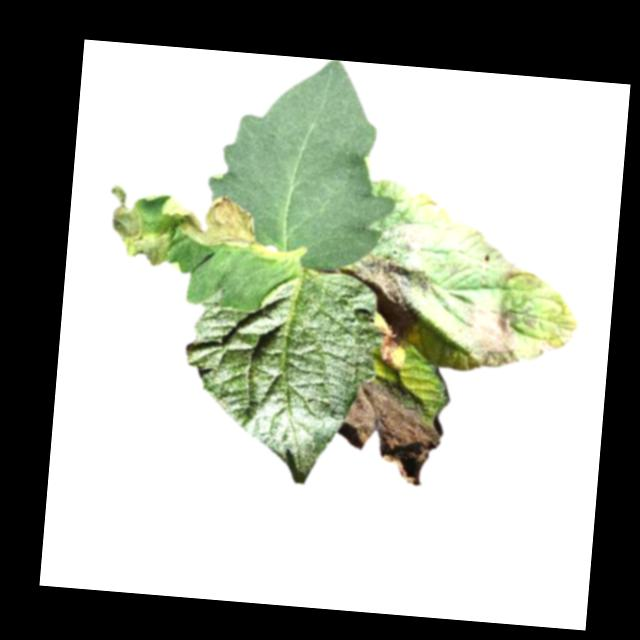Late_blight: (330, 372, 445, 487), (346, 255, 430, 338), (101, 184, 176, 269), (451, 297, 524, 371), (175, 193, 258, 250), (373, 216, 432, 262), (375, 331, 405, 373), (529, 334, 554, 363), (425, 200, 447, 217)
healthy: (175, 260, 377, 488), (208, 51, 407, 274)
